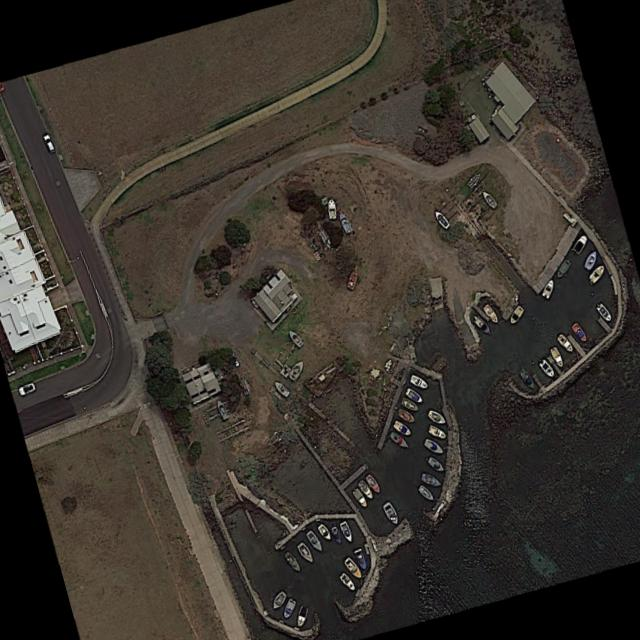ship: (341, 555, 363, 581), (303, 528, 324, 553), (380, 500, 400, 526), (286, 356, 305, 382), (281, 549, 301, 573), (294, 541, 314, 565), (470, 313, 491, 335), (568, 320, 587, 344), (387, 429, 408, 450), (516, 366, 534, 390), (480, 302, 499, 324), (337, 519, 354, 543), (422, 437, 443, 456), (537, 357, 555, 379), (594, 301, 612, 323), (479, 188, 497, 210), (506, 302, 523, 325), (356, 478, 373, 501), (555, 332, 573, 353), (586, 262, 604, 283), (337, 570, 355, 591), (431, 208, 449, 229), (553, 257, 570, 279), (570, 232, 587, 254), (269, 588, 286, 610), (350, 486, 367, 508), (363, 473, 380, 495), (425, 455, 444, 474), (420, 471, 441, 488), (285, 327, 302, 348), (336, 211, 352, 233), (280, 597, 295, 620), (352, 547, 367, 570), (391, 419, 410, 437), (271, 378, 289, 397), (395, 407, 415, 424), (548, 345, 563, 367), (213, 398, 228, 420), (416, 483, 433, 502), (426, 409, 445, 426), (315, 522, 332, 541), (404, 386, 423, 403), (327, 524, 342, 545), (345, 266, 358, 290), (540, 277, 554, 299), (408, 373, 426, 390), (399, 396, 418, 412), (582, 249, 596, 270), (427, 424, 445, 440), (294, 603, 306, 627), (325, 197, 335, 219)
small-vehicle: (41, 133, 55, 153), (16, 381, 34, 396)
